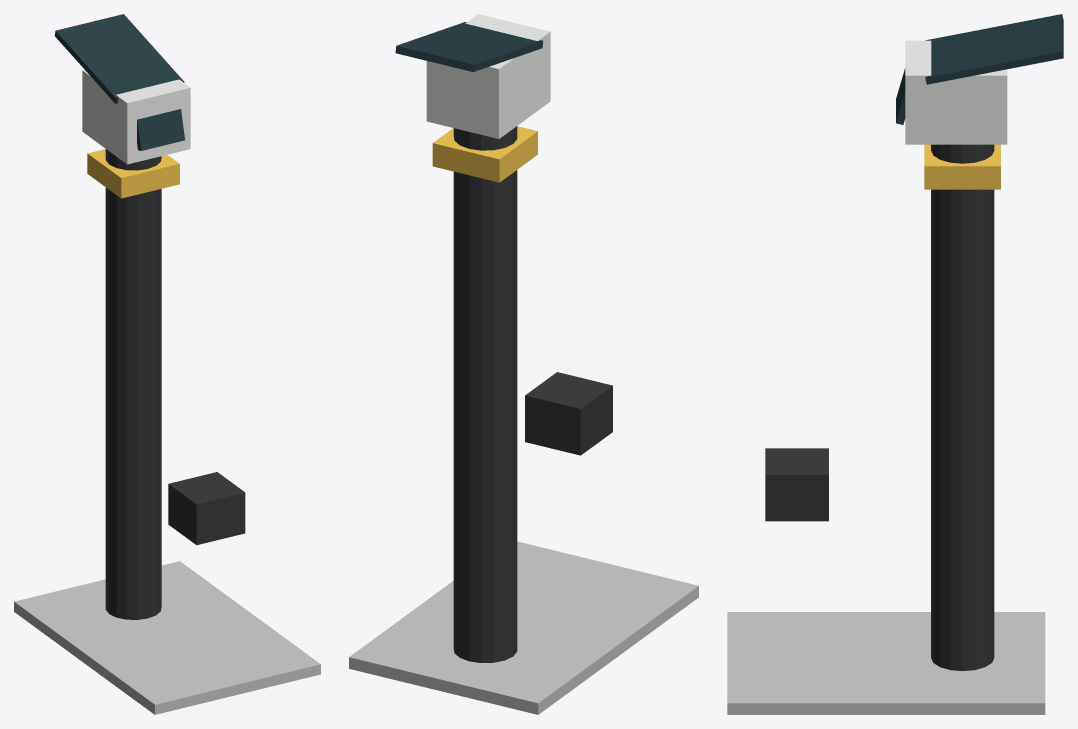
The model's file is SM_DST_Prop_MeBike_Dock.fbx.
3 renders of one model, left to right at view 1: azimuth 30°, elevation 25°; view 2: azimuth 150°, elevation 25°; view 3: azimuth 270°, elevation 25°, orthographic. The views are drawn at different scales.
Parts seen in each view (by area): view 1: SM_DST_Prop_MeBike_Dock; view 2: SM_DST_Prop_MeBike_Dock; view 3: SM_DST_Prop_MeBike_Dock.
Boxes of the visible parts, left/top/right/bottom form: SM_DST_Prop_MeBike_Dock: left=14, top=14, right=320, bottom=714; SM_DST_Prop_MeBike_Dock: left=349, top=14, right=698, bottom=714; SM_DST_Prop_MeBike_Dock: left=727, top=14, right=1063, bottom=714.
Size of the model in its own units: 0.34 by 1.1 by 0.5288.
